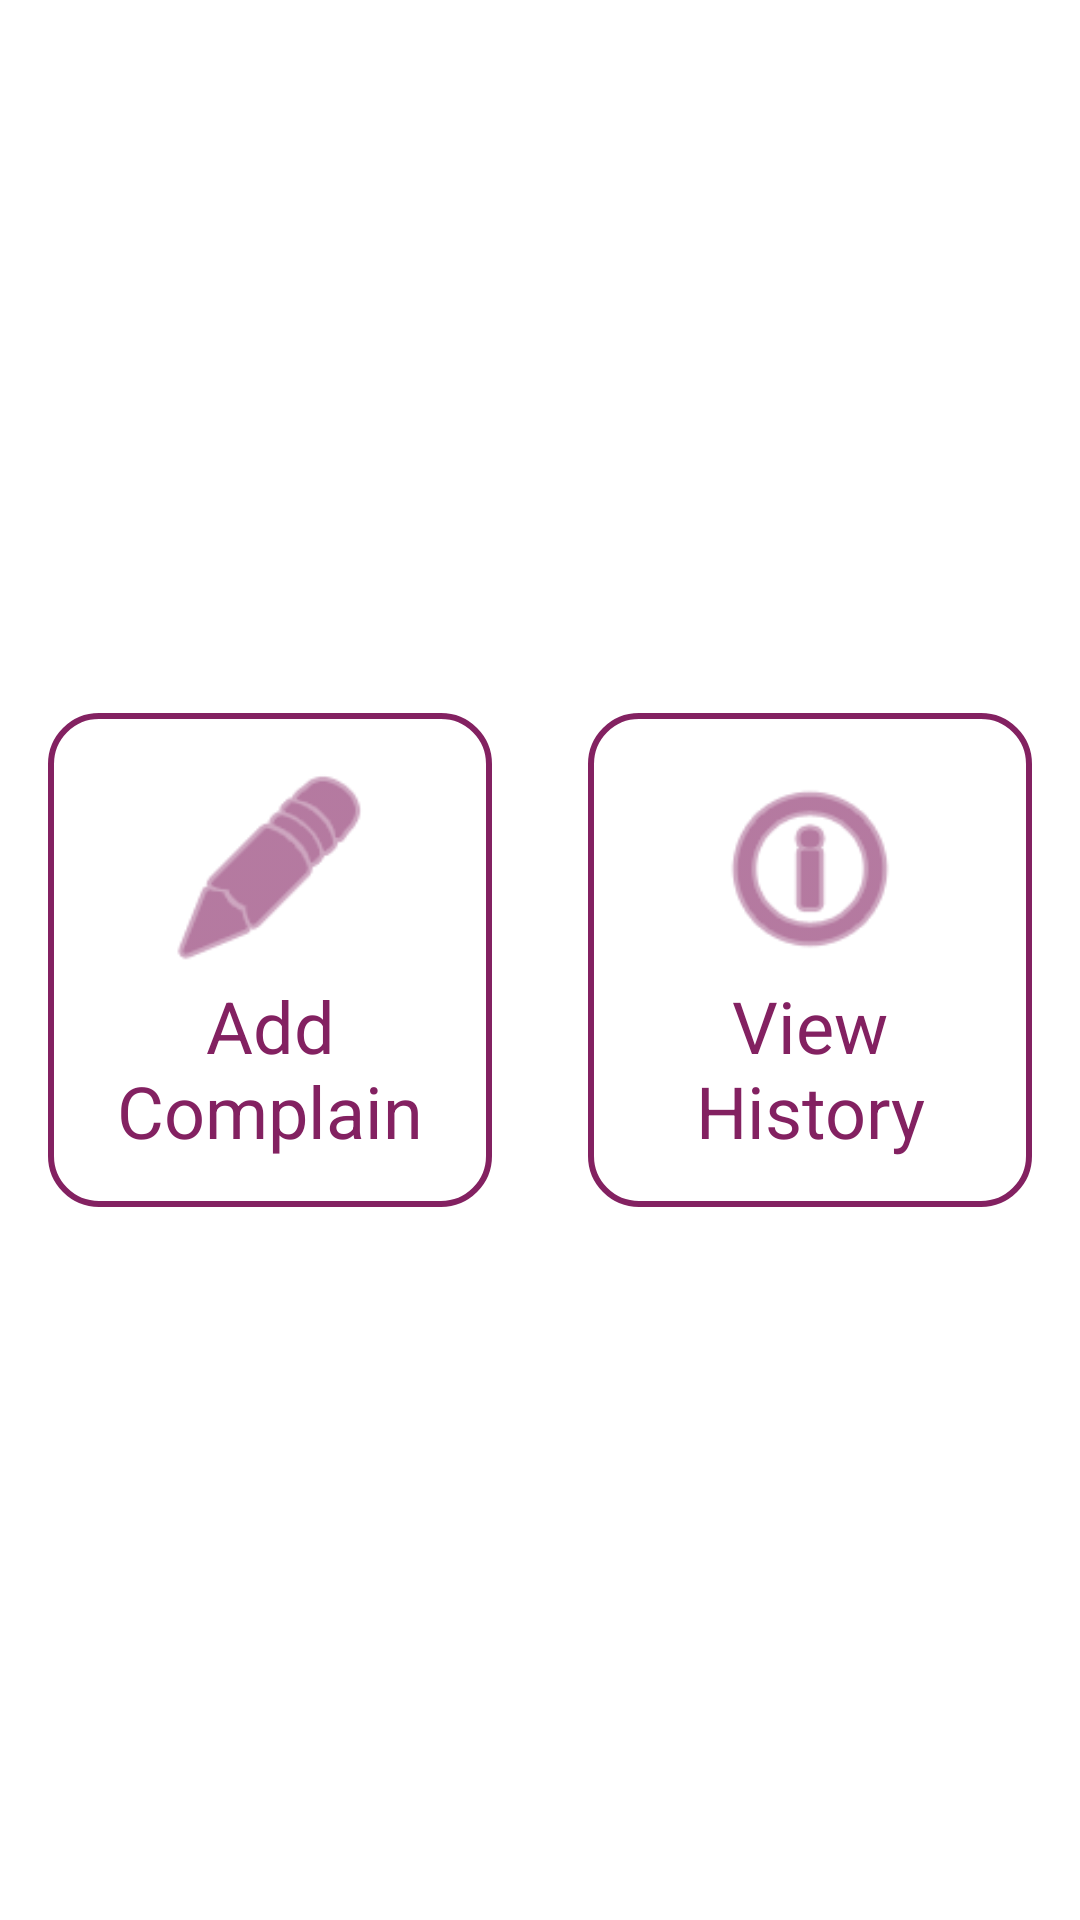

Icon bounding boxes for this 1080px×1920px phone screenshot, format (x1, y1, x2, y2):
edit: (178, 776, 361, 959)
info details: (732, 791, 888, 947)
